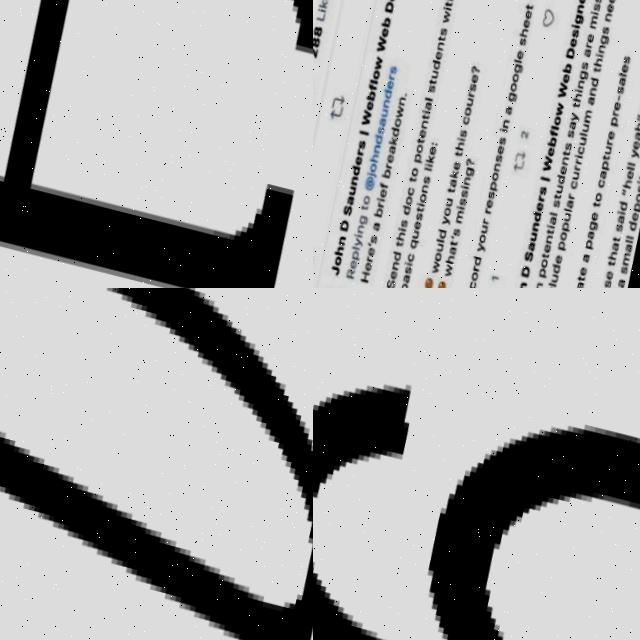3: (636, 145, 640, 155)
4: (313, 24, 318, 36)
6: (313, 339, 640, 640)
A: (442, 175, 453, 187), (562, 119, 573, 129), (628, 129, 638, 140), (382, 144, 392, 154), (442, 244, 452, 254), (579, 229, 589, 239), (609, 214, 619, 224), (366, 219, 375, 230), (618, 241, 627, 252), (521, 240, 529, 251), (613, 75, 621, 86), (340, 194, 349, 203), (605, 241, 614, 250), (374, 116, 382, 126), (542, 214, 550, 224), (419, 101, 427, 110), (396, 274, 404, 283), (499, 105, 507, 114), (579, 47, 587, 56), (560, 198, 568, 207), (582, 95, 590, 104), (568, 280, 577, 288), (575, 252, 583, 261), (593, 169, 601, 178), (610, 277, 618, 286)
B: (361, 88, 372, 100), (542, 134, 552, 147), (558, 60, 568, 72), (377, 16, 387, 26), (367, 207, 377, 217), (375, 167, 385, 177), (391, 281, 401, 288)
C: (461, 278, 470, 288), (400, 252, 408, 263), (571, 144, 579, 155), (563, 179, 572, 188), (456, 115, 464, 125), (401, 186, 409, 195), (591, 178, 599, 187), (635, 100, 640, 109), (540, 284, 548, 288)
D: (0, 288, 313, 640), (513, 263, 525, 277), (560, 45, 572, 59), (333, 218, 344, 232), (345, 164, 355, 176), (425, 58, 435, 70), (550, 172, 560, 184), (385, 249, 395, 261), (367, 133, 378, 143), (430, 227, 440, 238), (544, 262, 554, 273), (611, 200, 622, 210), (621, 220, 632, 230), (380, 0, 390, 11), (384, 126, 394, 136), (395, 205, 405, 215), (465, 255, 475, 265), (525, 211, 535, 221), (584, 76, 594, 86), (378, 88, 388, 98)
E: (564, 35, 575, 47), (375, 26, 385, 38), (620, 167, 630, 179), (626, 138, 636, 150), (478, 197, 489, 207), (600, 129, 611, 139), (412, 128, 422, 138), (446, 159, 456, 169), (348, 154, 357, 165), (357, 260, 366, 271), (547, 253, 556, 263), (361, 99, 369, 110), (381, 78, 389, 89), (383, 269, 391, 280), (530, 199, 538, 210), (542, 145, 550, 156), (557, 72, 565, 83), (554, 163, 562, 174), (584, 210, 592, 221), (616, 62, 624, 73), (380, 153, 389, 162), (511, 49, 520, 58), (624, 211, 633, 220), (373, 187, 381, 197), (537, 241, 545, 251), (342, 259, 350, 268), (361, 246, 369, 255), (430, 50, 438, 59), (407, 220, 415, 229), (423, 145, 431, 154), (466, 73, 474, 82), (491, 144, 499, 153), (518, 18, 526, 27), (520, 8, 528, 17), (582, 32, 590, 41), (602, 2, 610, 11), (572, 266, 580, 275), (608, 100, 616, 109), (599, 269, 607, 278), (573, 0, 583, 4), (636, 85, 640, 95), (603, 0, 612, 2)
F: (543, 127, 553, 135), (363, 81, 372, 89), (373, 180, 382, 188)
G: (573, 68, 584, 80), (582, 219, 593, 231), (459, 164, 469, 177), (570, 12, 580, 24), (502, 91, 513, 101), (508, 62, 518, 72), (595, 33, 605, 43), (352, 214, 362, 224)
H: (352, 269, 364, 283), (448, 140, 459, 150), (438, 253, 449, 263), (567, 92, 578, 102), (600, 249, 611, 259), (628, 120, 638, 131), (327, 245, 337, 255), (363, 152, 373, 162), (389, 231, 399, 241), (514, 26, 524, 36), (588, 56, 598, 66), (616, 177, 626, 187)
I: (370, 195, 379, 200), (391, 226, 400, 231), (454, 183, 463, 188), (493, 127, 502, 132), (313, 7, 321, 12), (348, 232, 356, 237), (416, 108, 424, 113), (438, 5, 446, 10), (397, 260, 405, 265), (410, 201, 418, 206), (419, 162, 427, 167), (451, 135, 459, 140), (450, 204, 458, 209), (567, 23, 575, 28), (540, 223, 548, 228), (570, 88, 578, 93), (586, 9, 594, 14), (569, 153, 577, 158), (591, 51, 599, 56), (611, 209, 619, 214), (631, 179, 639, 184)
J: (323, 265, 334, 275), (361, 172, 371, 177)
K: (419, 152, 430, 162), (382, 134, 392, 144), (443, 168, 453, 178), (313, 0, 323, 8)
L: (313, 11, 321, 21), (545, 123, 553, 129), (365, 78, 373, 83), (418, 165, 426, 170), (430, 237, 438, 242), (509, 57, 517, 62), (543, 210, 551, 215), (541, 280, 549, 285), (574, 130, 582, 135), (614, 71, 622, 76), (620, 164, 628, 169), (621, 160, 629, 165), (618, 238, 626, 243), (619, 233, 627, 238), (420, 96, 428, 100), (558, 207, 566, 211), (345, 246, 353, 249)
M: (448, 208, 458, 223), (584, 14, 594, 28), (577, 108, 587, 122), (615, 251, 624, 265)
N: (599, 10, 608, 21), (367, 143, 375, 154), (432, 40, 440, 51), (331, 236, 340, 245), (344, 176, 353, 185), (414, 183, 423, 192), (525, 221, 534, 230), (571, 79, 580, 88), (583, 86, 592, 95), (555, 155, 563, 165), (350, 223, 358, 232), (377, 99, 385, 108), (393, 96, 401, 105), (385, 261, 393, 270), (415, 119, 423, 128), (457, 176, 465, 185), (487, 162, 495, 171), (496, 118, 504, 127), (572, 3, 580, 12), (538, 234, 546, 243), (593, 43, 601, 52), (512, 281, 520, 288), (528, 281, 536, 288)
O: (436, 206, 446, 216), (533, 257, 542, 268), (367, 68, 375, 80), (458, 105, 467, 115), (327, 255, 335, 266), (472, 232, 480, 243), (485, 170, 493, 181), (548, 114, 556, 125), (552, 229, 560, 240), (629, 191, 637, 202), (356, 194, 365, 203), (363, 162, 372, 171), (398, 195, 407, 204), (404, 167, 413, 176), (412, 193, 421, 202), (427, 251, 436, 260), (504, 81, 513, 90), (388, 117, 396, 126), (410, 143, 418, 152), (464, 270, 472, 279), (507, 72, 515, 81), (588, 192, 596, 201)
P: (483, 179, 494, 191), (344, 250, 355, 260), (407, 152, 418, 162), (531, 266, 542, 276), (550, 239, 561, 249), (554, 221, 565, 231), (577, 238, 588, 248), (595, 160, 605, 170), (605, 115, 615, 125), (627, 201, 637, 211)
Q: (402, 237, 413, 249)
R: (339, 267, 349, 279), (359, 255, 367, 262), (466, 264, 473, 272), (532, 193, 540, 200), (580, 40, 588, 47), (600, 137, 608, 144), (351, 147, 358, 154), (383, 73, 390, 80), (371, 200, 378, 207), (380, 161, 387, 168), (478, 206, 485, 213), (476, 217, 483, 224), (562, 191, 569, 198), (568, 163, 575, 170), (569, 157, 576, 164), (607, 108, 614, 115), (463, 90, 470, 97), (636, 93, 640, 100)
S: (517, 248, 528, 261), (378, 277, 389, 288), (337, 203, 347, 215), (512, 36, 523, 46), (595, 278, 606, 288), (607, 221, 618, 231), (415, 174, 425, 184), (452, 196, 462, 206), (566, 27, 576, 37), (533, 183, 541, 194), (384, 65, 393, 74), (363, 234, 372, 243), (422, 83, 431, 92), (397, 265, 406, 274), (408, 211, 417, 220), (453, 127, 462, 136), (463, 82, 472, 91), (446, 227, 455, 236), (546, 198, 555, 207), (558, 141, 567, 150), (617, 54, 626, 63), (613, 264, 622, 273), (630, 183, 639, 192), (352, 139, 360, 148), (371, 125, 379, 134), (394, 218, 402, 227), (435, 26, 443, 35), (454, 188, 462, 197), (481, 189, 489, 198), (489, 153, 497, 162), (493, 136, 501, 145), (561, 129, 569, 138), (576, 60, 584, 69), (589, 1, 597, 10), (597, 25, 605, 34), (611, 84, 619, 93)
T: (547, 191, 556, 200), (442, 238, 452, 246), (534, 251, 544, 259), (539, 226, 549, 234), (566, 100, 576, 108), (587, 65, 597, 73), (585, 199, 595, 207), (595, 153, 605, 161), (354, 203, 363, 211), (402, 175, 411, 183), (423, 77, 432, 85), (409, 204, 418, 212), (440, 185, 449, 193), (448, 149, 457, 157), (520, 1, 529, 9), (556, 148, 565, 156), (570, 274, 579, 282), (600, 258, 609, 266), (605, 234, 614, 242), (632, 172, 640, 181), (388, 241, 397, 247), (411, 137, 420, 143), (416, 113, 425, 119), (433, 35, 442, 41), (439, 0, 448, 6)
U: (549, 182, 558, 193), (460, 96, 469, 105), (556, 212, 565, 221), (565, 170, 574, 179), (375, 107, 383, 117), (573, 134, 581, 144), (598, 144, 606, 154), (342, 185, 350, 194), (426, 69, 434, 78), (405, 229, 413, 238), (429, 241, 437, 250), (439, 197, 447, 206), (474, 224, 482, 233), (523, 231, 531, 240), (544, 272, 552, 281), (576, 122, 584, 131)
W: (355, 108, 368, 125), (551, 81, 564, 98), (371, 35, 383, 52), (536, 153, 548, 170), (550, 101, 560, 116), (424, 260, 434, 273), (369, 55, 378, 69), (390, 105, 399, 119), (437, 263, 446, 276), (438, 10, 447, 21)
Y: (469, 242, 480, 253), (347, 236, 358, 246), (625, 146, 635, 157), (435, 214, 445, 224), (565, 111, 575, 121)
